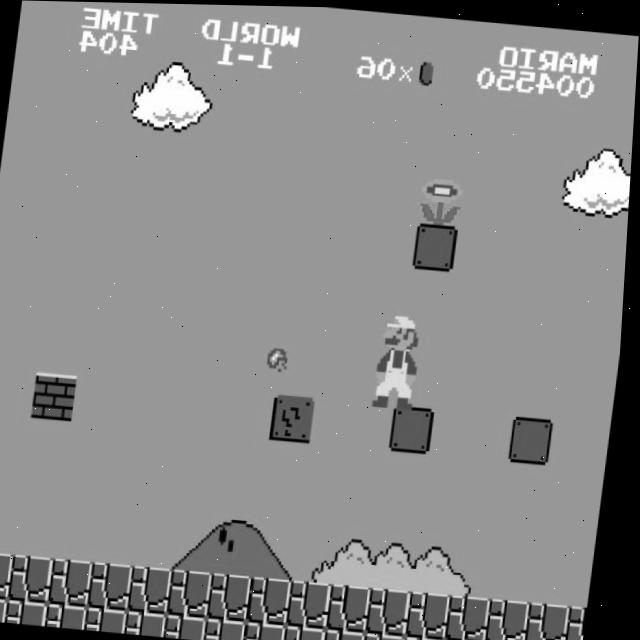1- brick_block: (35, 371, 81, 421)
13- mystery_block: (274, 392, 320, 442)
17- undestructible_block: (412, 588, 458, 638), (372, 585, 418, 635), (332, 581, 378, 631), (292, 578, 338, 628), (253, 574, 299, 624), (133, 564, 179, 614), (54, 557, 100, 607), (14, 554, 60, 604), (213, 571, 259, 620), (173, 568, 219, 617), (93, 561, 139, 610), (452, 592, 498, 640), (491, 595, 538, 640), (531, 599, 577, 640), (170, 613, 214, 640), (131, 609, 175, 636), (91, 606, 135, 633), (51, 602, 95, 629), (11, 599, 55, 625), (210, 616, 254, 640), (0, 550, 20, 600), (249, 620, 293, 640), (572, 602, 594, 640), (289, 623, 333, 640), (329, 626, 373, 640), (369, 630, 413, 640), (0, 596, 15, 622), (409, 634, 453, 640), (449, 637, 493, 640)
3- empty_block: (512, 413, 559, 463), (414, 221, 461, 270), (393, 403, 440, 452)
4- fire_mario: (376, 310, 430, 408)
5- fireball: (269, 343, 293, 370)
6- flower: (420, 172, 469, 225)
